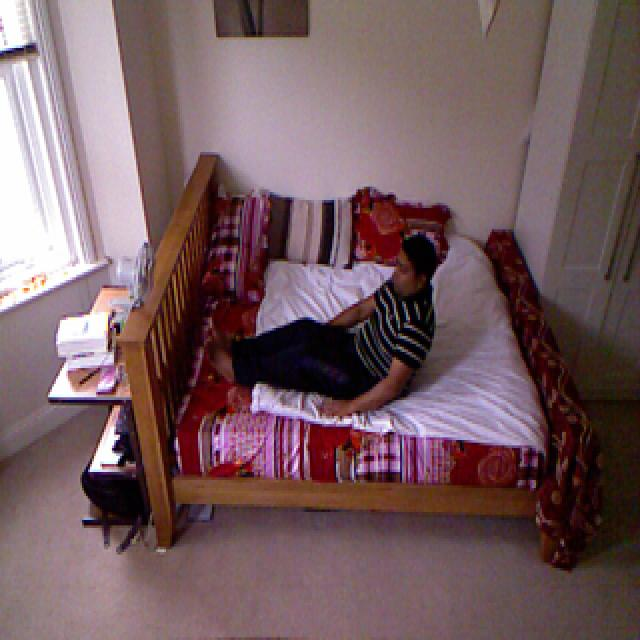bending: (230, 230, 448, 408)
